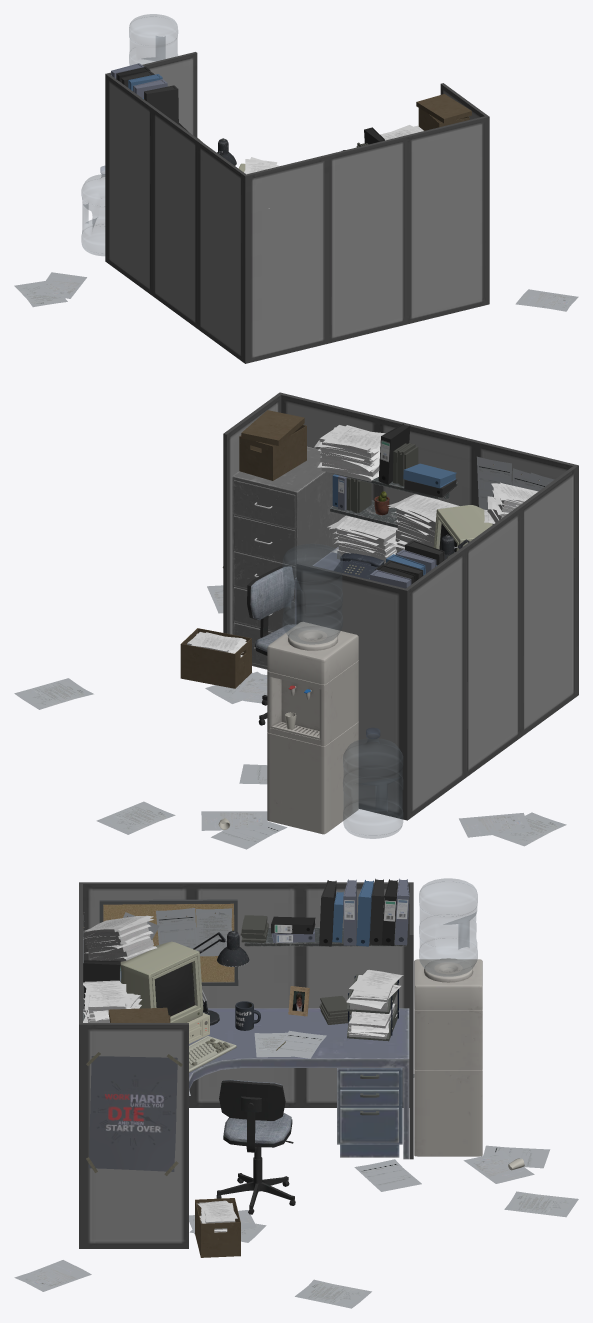
Rendered from desk.glb.
The picture shows the model from 3 angles, top to bottom: view 1: azimuth 30°, elevation 25°; view 2: azimuth 150°, elevation 25°; view 3: azimuth 270°, elevation 25°; orthographic projection. The views are drawn at different scales.
Visible parts, largest first — view 1: cubicle_Walls, cooler_Big_Bottle (×2), cubicle_Paper01, cubicle_material, cubicle_File03, cubicle_Paper_Stack, cubicle_Paper02, cubicle_File01, cubicle_File02; view 2: cubicle_Walls, cooler_Water_Cooler, cubicle_File_Storage, cooler_Big_Bottle (×2), cubicle_Paper_Stack, cubicle_material, cubicle_Paper02, cubicle_Paper01, cubicle_Paper03, cubicle_Stool, cubicle_Monitor, cubicle_File_Stack (+6 smaller); view 3: cubicle_Walls, cooler_Water_Cooler, cubicle_Big_Wallpaper, cubicle_Table, cubicle_Paper_Stack, cubicle_Drawer, cubicle_Stool, cooler_Big_Bottle, cubicle_Monitor, cubicle_Paper02, cubicle_Paper03, cubicle_PinBoard (+13 smaller).
Boxes of the visible parts, x1,y1,x2,y2 form: cubicle_Walls: (105, 52, 489, 363); cooler_Big_Bottle (×2): (81, 14, 177, 255); cubicle_Paper01: (35, 272, 578, 311); cubicle_material: (416, 94, 471, 130); cubicle_File03: (121, 71, 178, 122); cubicle_Paper_Stack: (244, 125, 423, 208); cubicle_Paper02: (14, 281, 67, 307); cubicle_File01: (111, 63, 167, 97); cubicle_File02: (116, 67, 384, 144); cubicle_Walls: (223, 392, 578, 820); cooler_Water_Cooler: (267, 622, 358, 834); cubicle_File_Storage: (232, 446, 345, 669); cooler_Big_Bottle (×2): (282, 544, 402, 838); cubicle_Paper_Stack: (187, 425, 538, 657); cubicle_material: (180, 410, 306, 688); cubicle_Paper02: (14, 671, 566, 846); cubicle_Paper01: (201, 472, 554, 837); cubicle_Paper03: (211, 456, 547, 849); cubicle_Stool: (247, 565, 296, 725); cubicle_Monitor: (433, 505, 492, 551); cubicle_File_Stack: (346, 443, 453, 557); cubicle_Walls: (79, 882, 413, 1248); cooler_Water_Cooler: (414, 958, 482, 1156); cubicle_Big_Wallpaper: (88, 1056, 177, 1171); cubicle_Table: (189, 1008, 409, 1159); cubicle_Paper_Stack: (83, 915, 403, 1232); cubicle_Drawer: (337, 1068, 402, 1157); cubicle_Stool: (216, 1079, 295, 1214); cooler_Big_Bottle: (419, 878, 477, 976); cubicle_Monitor: (120, 941, 203, 1022); cubicle_Paper02: (189, 908, 578, 1308); cubicle_Paper03: (83, 908, 550, 1191); cubicle_PinBoard: (99, 899, 238, 985).
Bounding box in the file's own units: 3.77 × 1.7 × 3.44.
34 materials, 34 textured.
